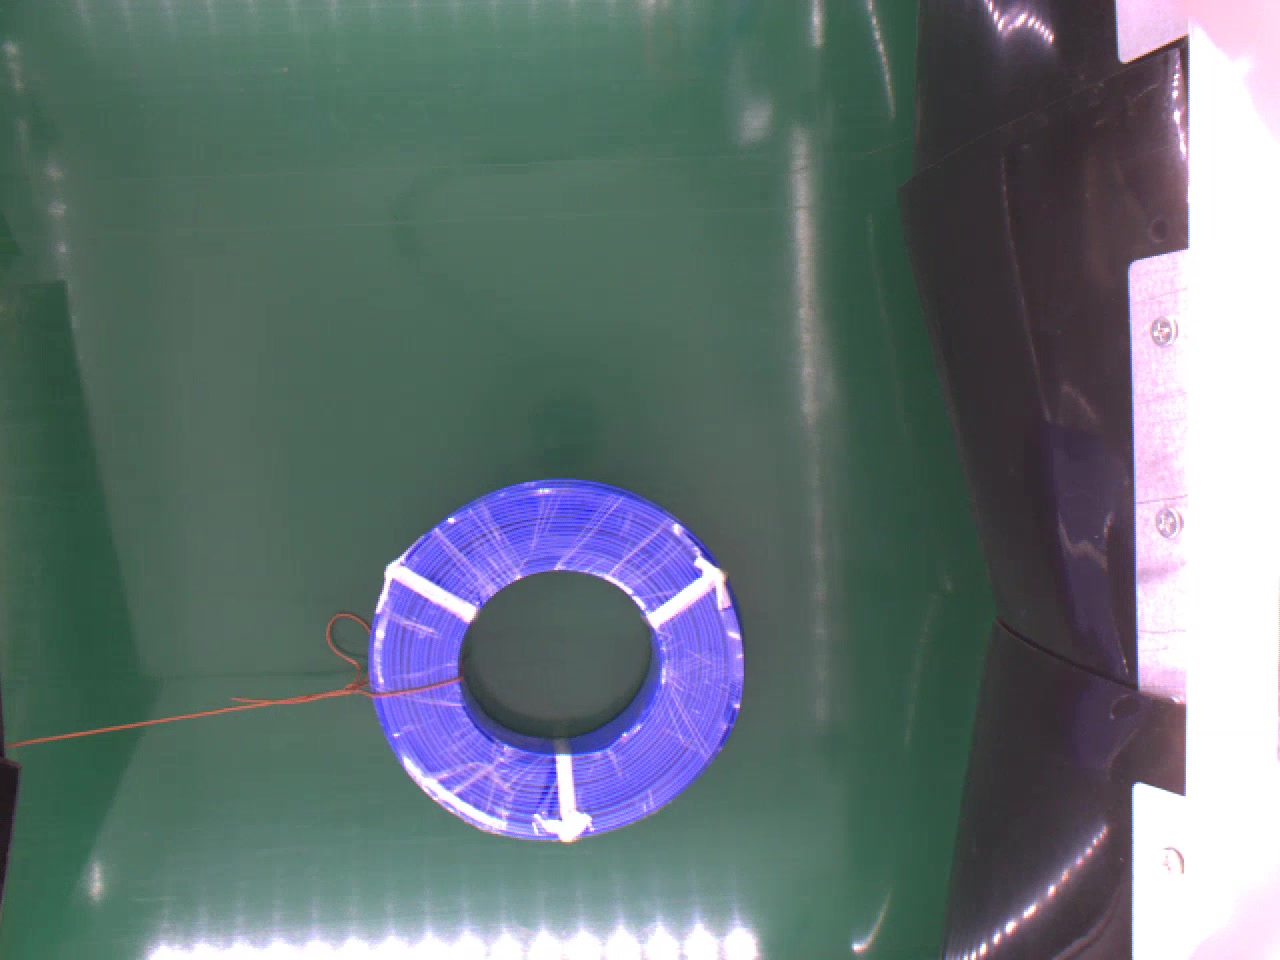blue: (356, 474, 749, 846)
